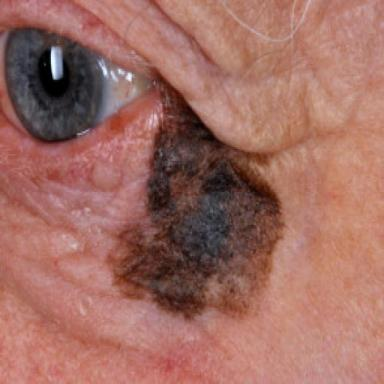Melanoma: (109, 80, 286, 318)
